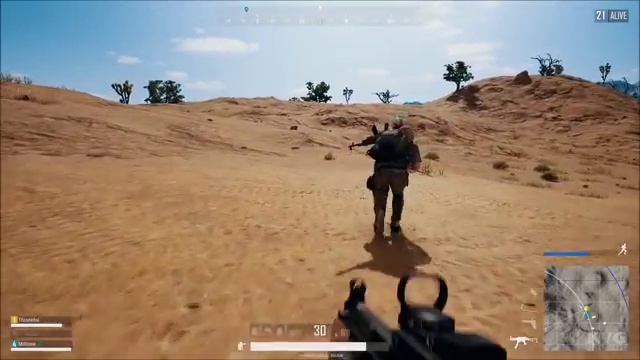Player: (323, 113, 450, 245)
